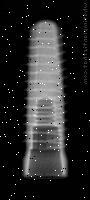Camlog: (20, 17, 69, 178)
